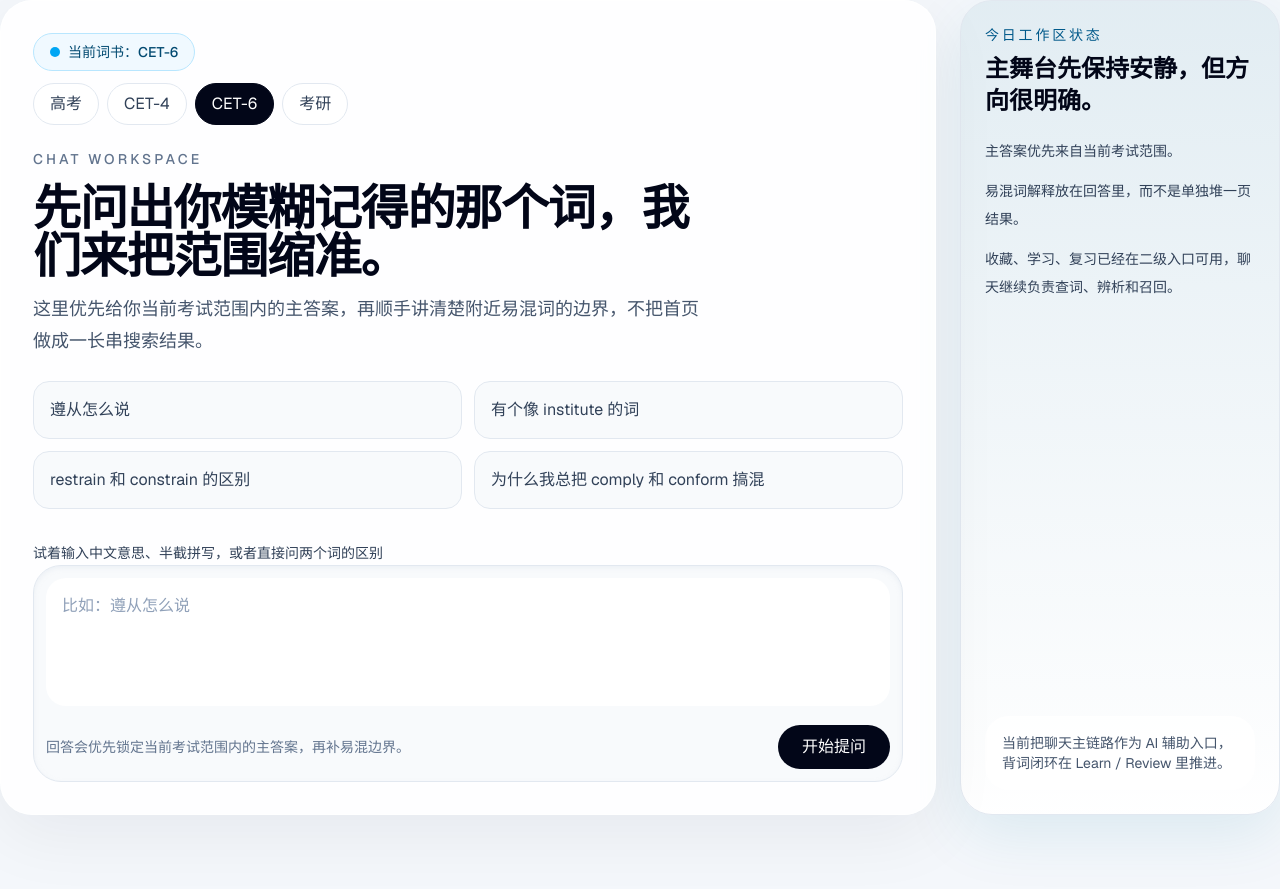
Test: ChatWorkspace › summarizes broad resolved answers without duplicating the main-answer list
Type "tion 结尾的词有哪些" into the text box with test id "chat-input" at (468, 642), box [46,578,890,706]
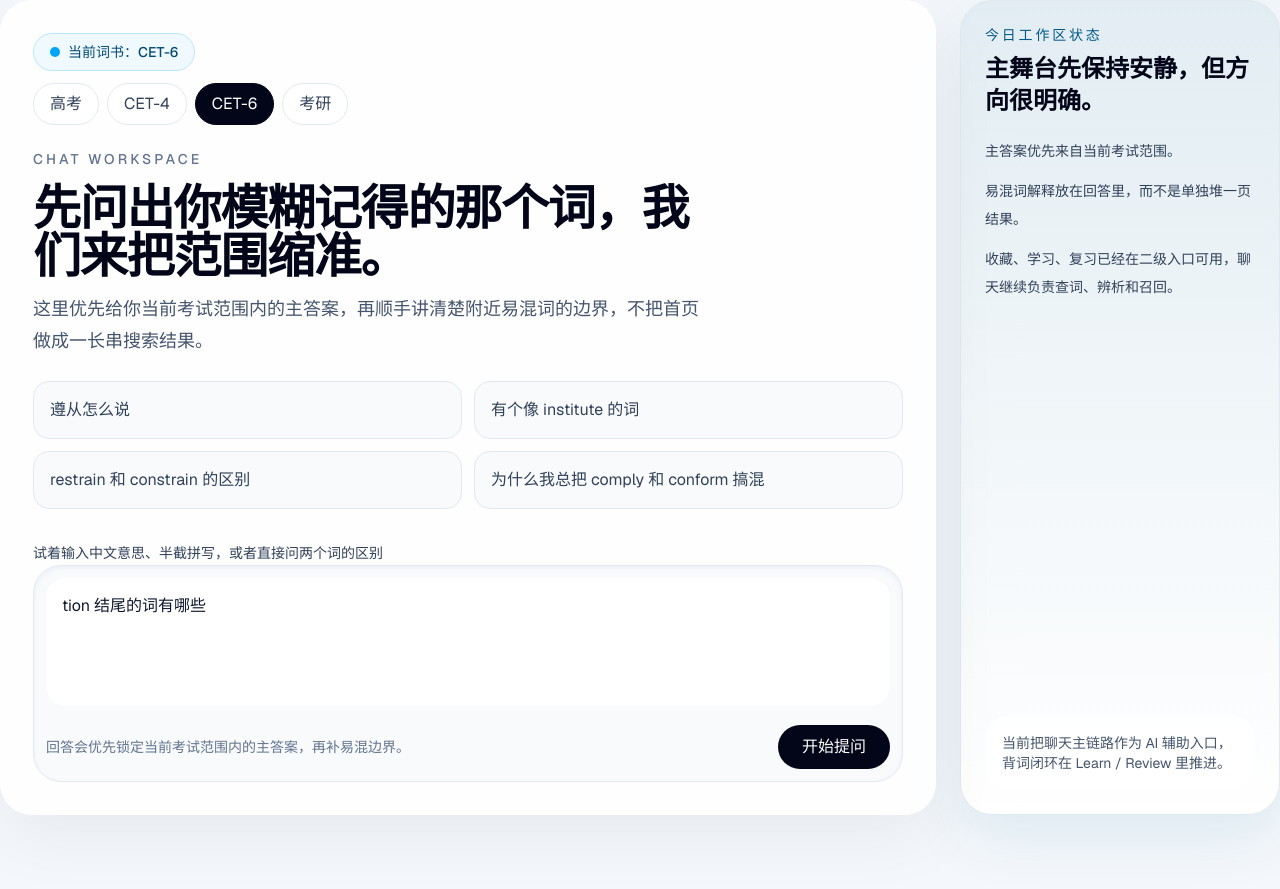
Click the button "开始提问" at (834, 747), box [778,725,890,769]
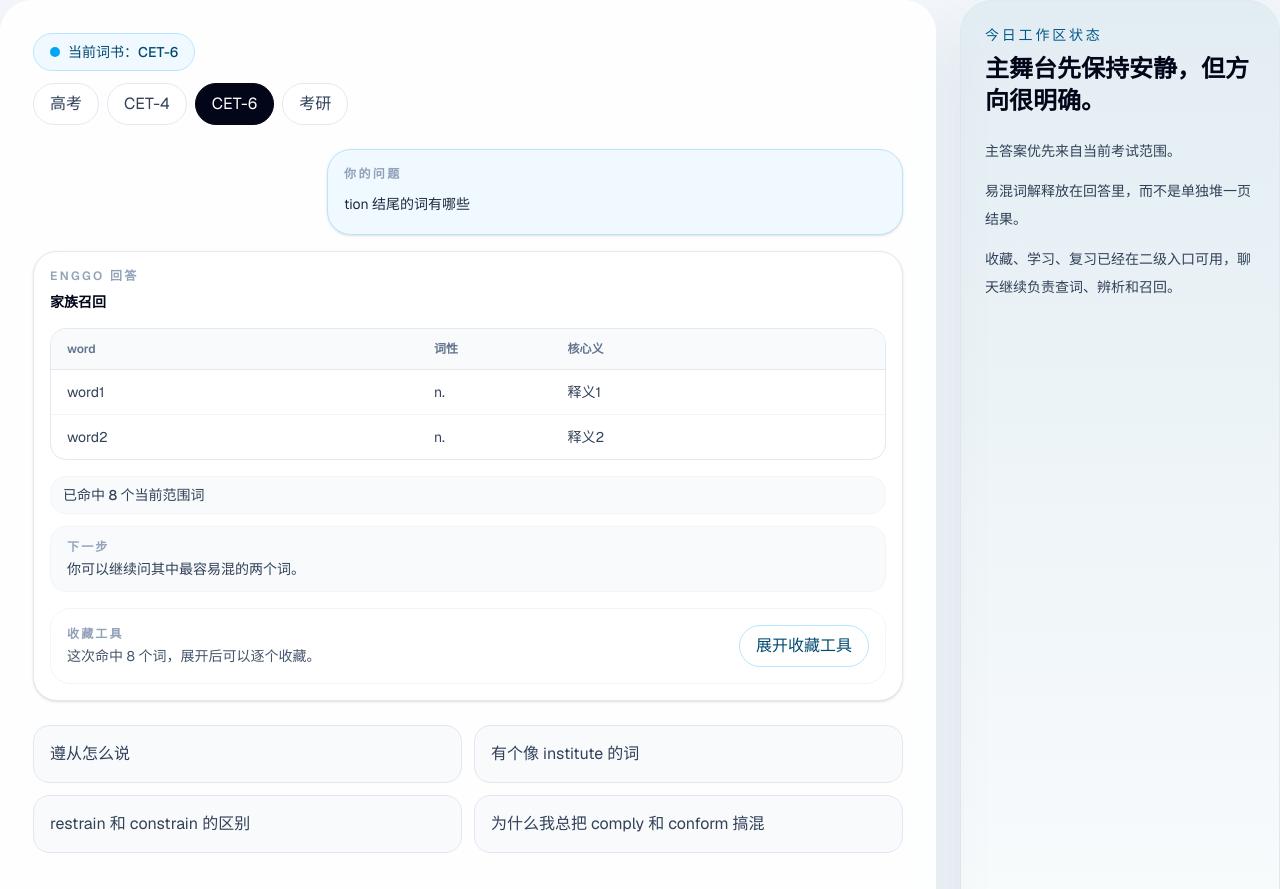
Expected: the text "已命中 8 个当前范围词" is shown, [50,476,886,514]
Expected: the button "展开收藏工具" is shown, [739,625,869,667]
